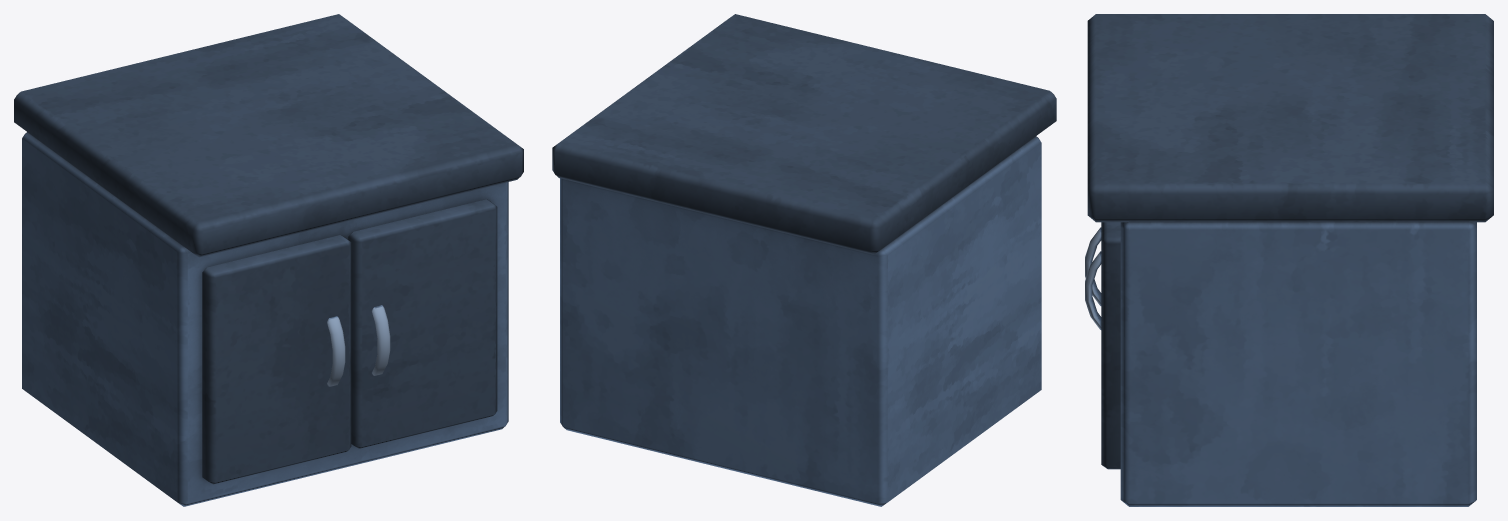
The model's file is DeliveryCounter_Visual.glb.
3 views of the same model, side by side, from view 1: azimuth 30°, elevation 25°; view 2: azimuth 150°, elevation 25°; view 3: azimuth 270°, elevation 25° (orthographic). The views are drawn at different scales.
Visible parts, largest first — view 1: KitchenCounter; view 2: KitchenCounter; view 3: KitchenCounter.
Part boxes in pixels (<box>): KitchenCounter: <box>14,14,523,506</box>; KitchenCounter: <box>552,14,1056,506</box>; KitchenCounter: <box>1085,14,1493,506</box>.
Bounding box in the file's own units: 1.48 × 1.26 × 1.45.
Materials: 1 (1 with a texture image).
